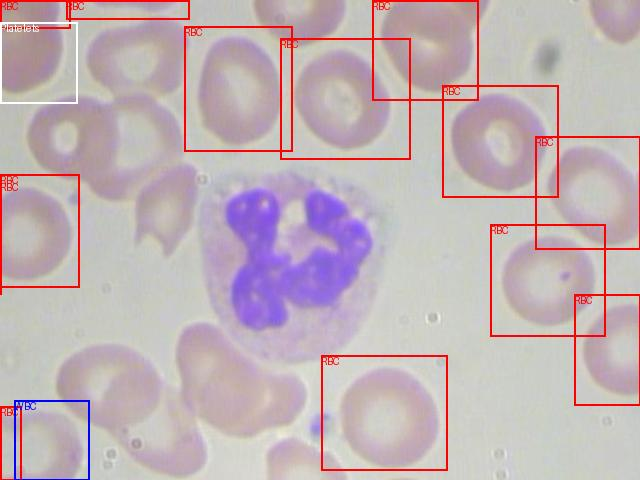Platelets: (0, 22, 77, 103)
RBC: (280, 38, 410, 159), (321, 355, 447, 470), (184, 26, 292, 151), (442, 85, 558, 197), (490, 224, 605, 336), (535, 136, 640, 249), (372, 0, 478, 100), (0, 174, 79, 287), (574, 294, 640, 405), (66, 0, 189, 19), (0, 0, 70, 28), (0, 406, 21, 480), (0, 181, 1, 294)
WBC: (14, 400, 89, 480)
